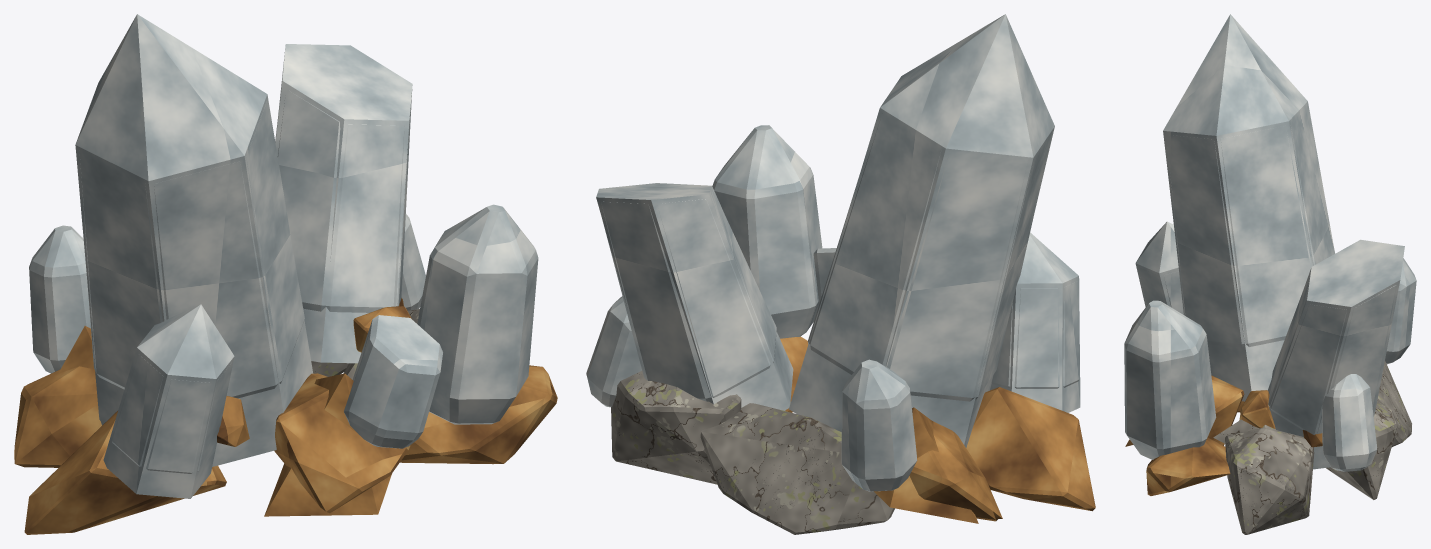
The model's file is deposit-0.glb.
The picture shows the model from 3 angles, left to right: view 1: azimuth 30°, elevation 25°; view 2: azimuth 150°, elevation 25°; view 3: azimuth 270°, elevation 25°; orthographic projection. The views are drawn at different scales.
Visible parts, largest first — view 1: MNR-deposit-0-mesh0, MNR-deposit-0-mesh1; view 2: MNR-deposit-0-mesh0, MNR-deposit-0-mesh1; view 3: MNR-deposit-0-mesh0, MNR-deposit-0-mesh1.
Part boxes in pixels (x1=…): MNR-deposit-0-mesh0: x1=14, y1=27, x2=557, y2=534; MNR-deposit-0-mesh1: x1=58, y1=14, x2=412, y2=516; MNR-deposit-0-mesh0: x1=586, y1=23, x2=1095, y2=534; MNR-deposit-0-mesh1: x1=596, y1=14, x2=1080, y2=523; MNR-deposit-0-mesh0: x1=1124, y1=27, x2=1416, y2=534; MNR-deposit-0-mesh1: x1=1125, y1=14, x2=1404, y2=469.
Size of the model in its own units: 0.6905 by 0.6477 by 0.4506.
Materials: 3 (3 with a texture image).
